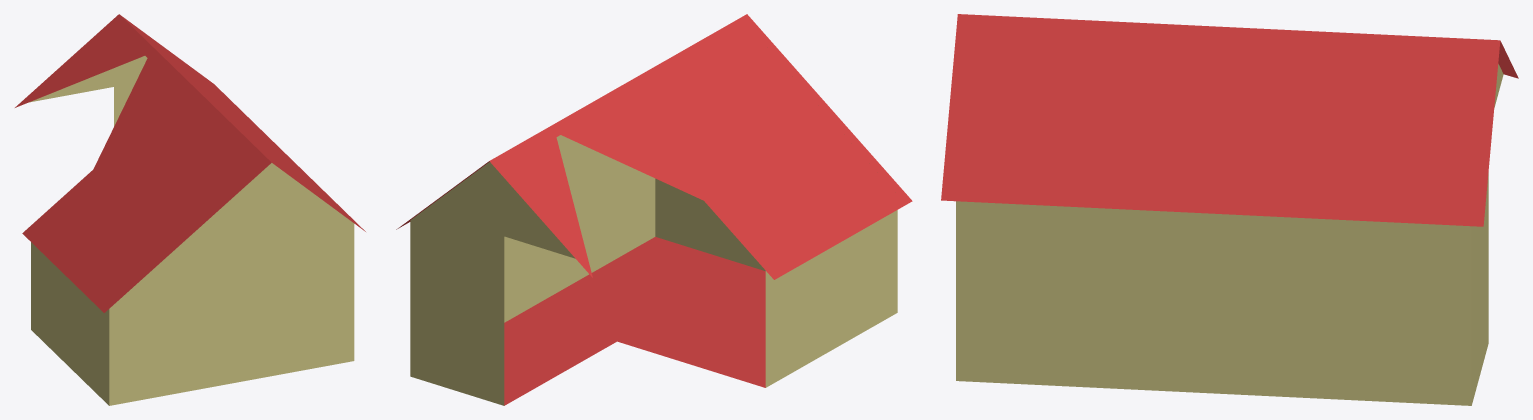
The picture shows the model from 3 angles, left to right: view 1: azimuth 30°, elevation 25°; view 2: azimuth 150°, elevation 25°; view 3: azimuth 270°, elevation 25°; orthographic projection. The views are drawn at different scales.
Size of the model in its own units: 17.29 by 21.39 by 12.66.
